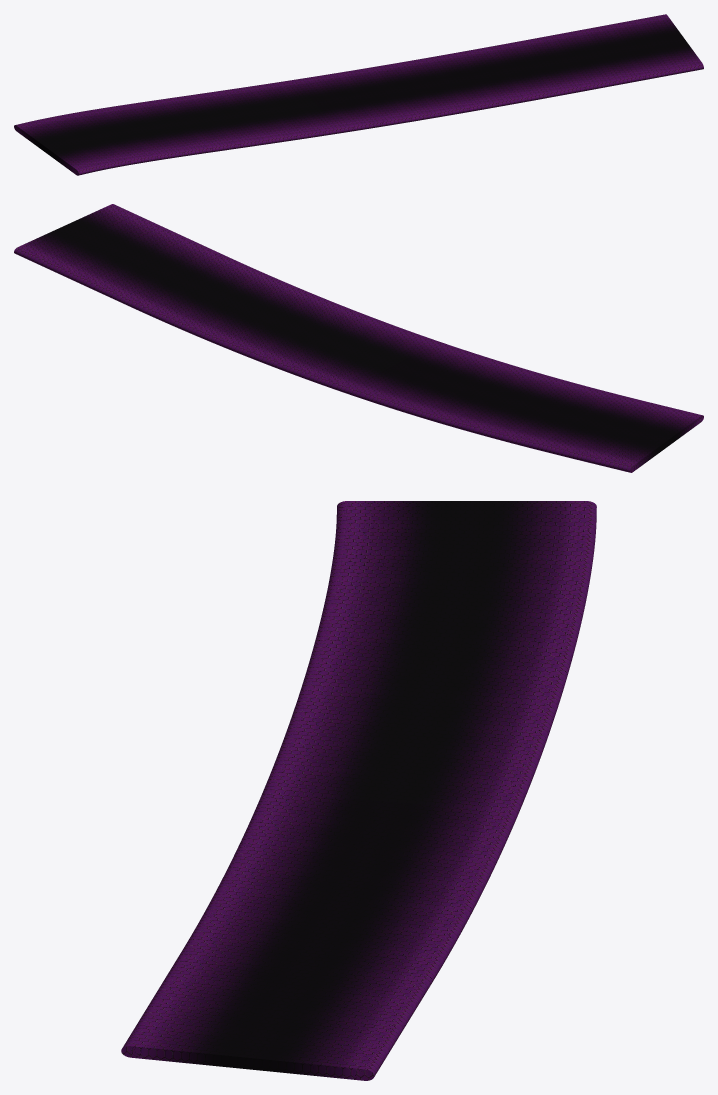
Rendered from level-02-track-05.glb.
3 renders of one model, top to bottom at view 1: azimuth 30°, elevation 25°; view 2: azimuth 150°, elevation 25°; view 3: azimuth 270°, elevation 25°, orthographic. The views are drawn at different scales.
Parts seen in each view (by area): view 1: track-05.001; view 2: track-05.001; view 3: track-05.001.
Boxes of the visible parts, <box> form: track-05.001: <box>14,14,703,175</box>; track-05.001: <box>14,204,703,472</box>; track-05.001: <box>121,501,596,1080</box>.
Bounding box in the file's own units: 44.26 × 1.37 × 15.29.
Materials: 2 (2 with a texture image).
